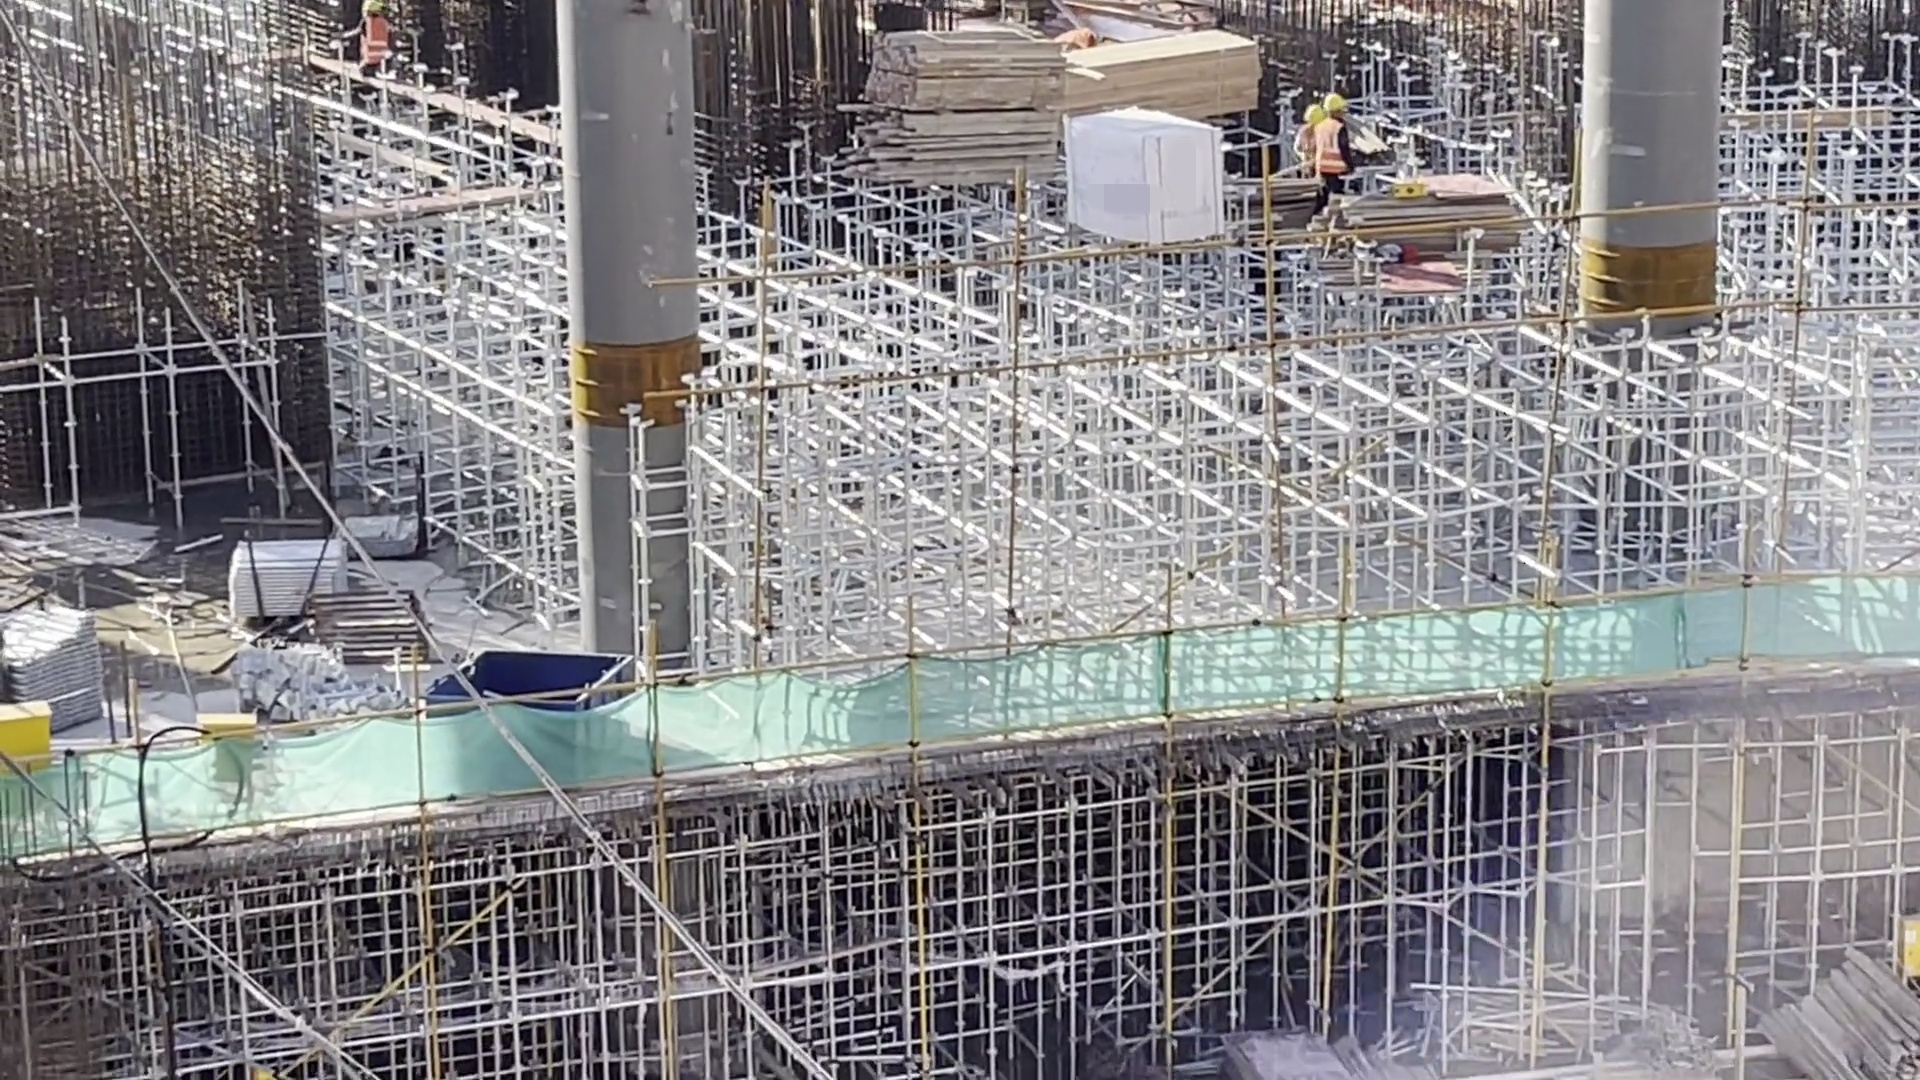board: (1363, 186, 1538, 262), (1223, 1017, 1328, 1080)
ebox: (189, 711, 274, 799), (36, 694, 91, 816), (1891, 917, 1918, 969)
helmet: (1327, 90, 1347, 109), (1303, 107, 1320, 127), (1094, 37, 1109, 46)
hopper: (419, 646, 624, 766)
person: (1308, 90, 1361, 215), (363, 1, 393, 80), (1058, 25, 1098, 61)
scaffold: (13, 594, 133, 724), (203, 541, 358, 589)
vest: (1321, 116, 1343, 177), (366, 14, 388, 54), (1057, 29, 1097, 43)
wood: (873, 31, 1068, 182), (1763, 902, 1919, 1080), (1044, 29, 1278, 111)
